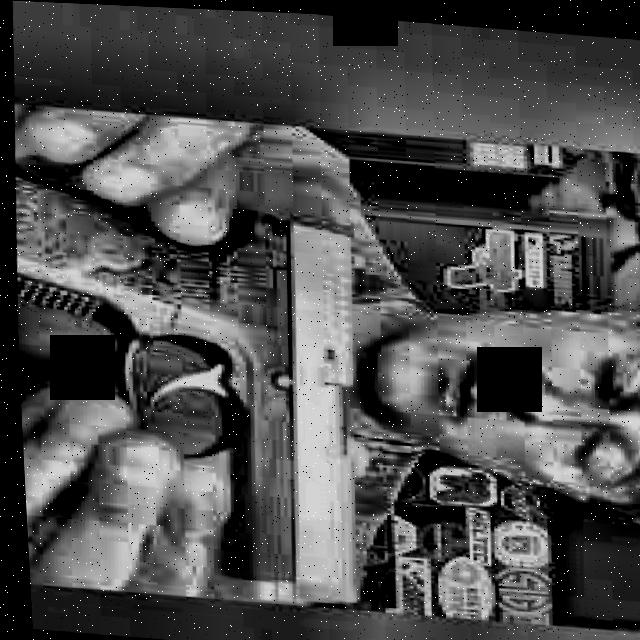Kahr: (4, 100, 640, 630), (6, 148, 374, 605)
